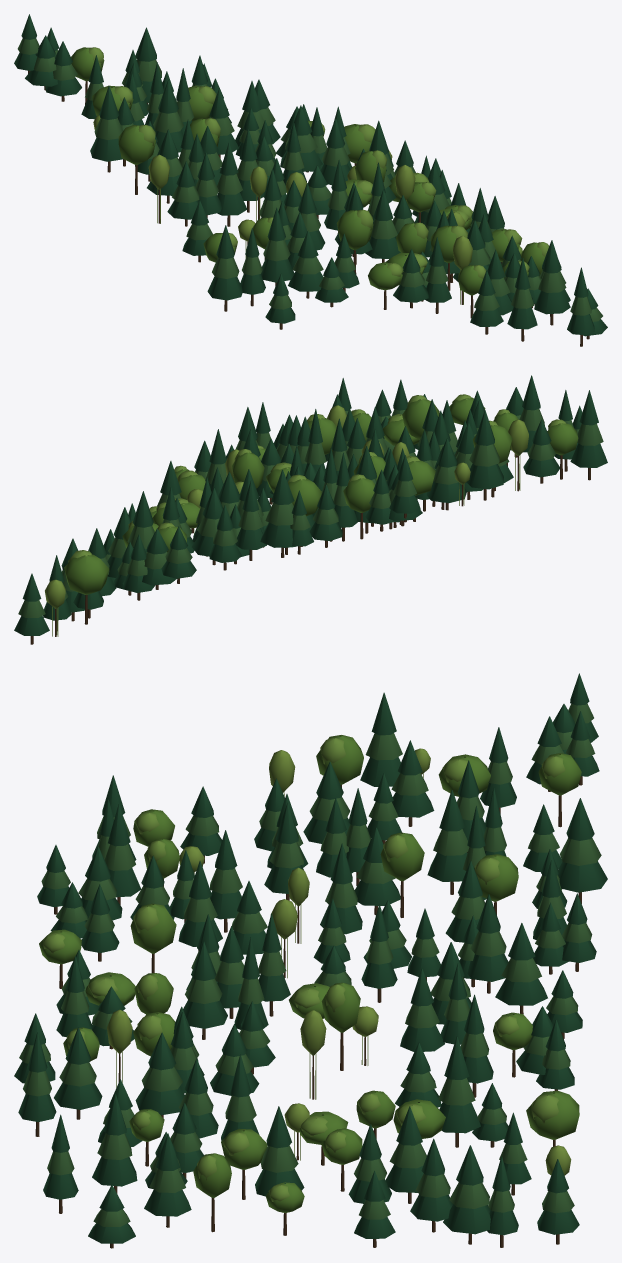
Rendered from forest_2_3.dae.
3 views of the same model, one above another, from view 1: azimuth 30°, elevation 25°; view 2: azimuth 150°, elevation 25°; view 3: azimuth 270°, elevation 25° (orthographic). The views are drawn at different scales.
Parts seen in each view (by area): view 1: forest_2_3; view 2: forest_2_3; view 3: forest_2_3.
Boxes of the visible parts, bbox=[...] form: forest_2_3: bbox=[14, 14, 607, 346]; forest_2_3: bbox=[14, 375, 607, 644]; forest_2_3: bbox=[14, 673, 607, 1248].
Bounding box in the file's own units: 132 × 135 × 88.22.
